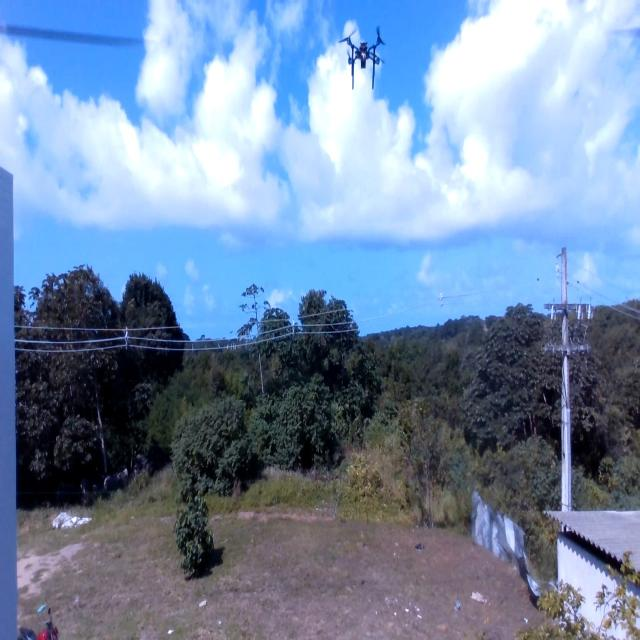-uav-: (330, 16, 394, 100)
